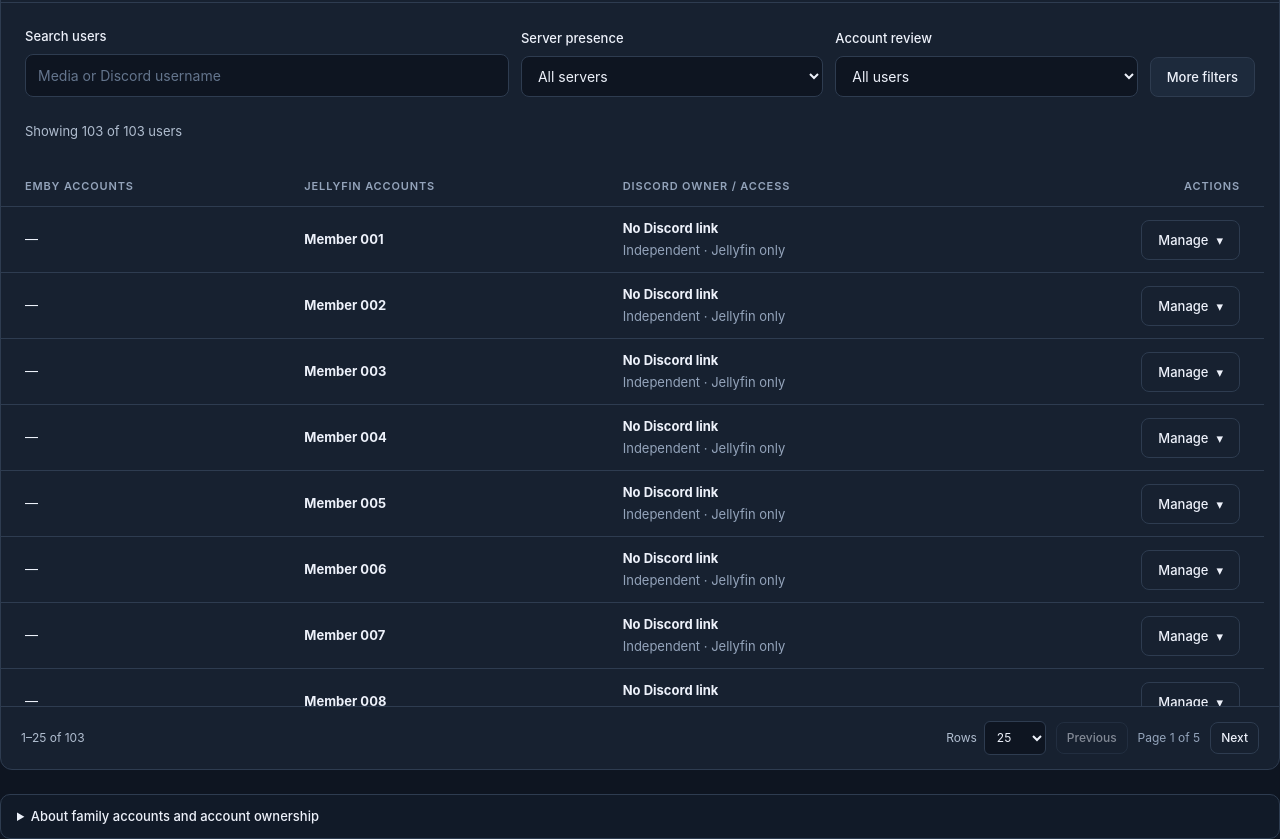
Test case: User directory and Discord organization › bounds large directories to one page and resets pagination when filters or row size change
The width and height of the screenshot is (1280, 839).
(page scrolled)
Check: the text "1–25 of 103" is shown, box [21,729,85,747]
Check: the text "Member 026" is not shown
Click the button with aria-label "Next page" at point(1235, 738), box [1210,722,1259,754]
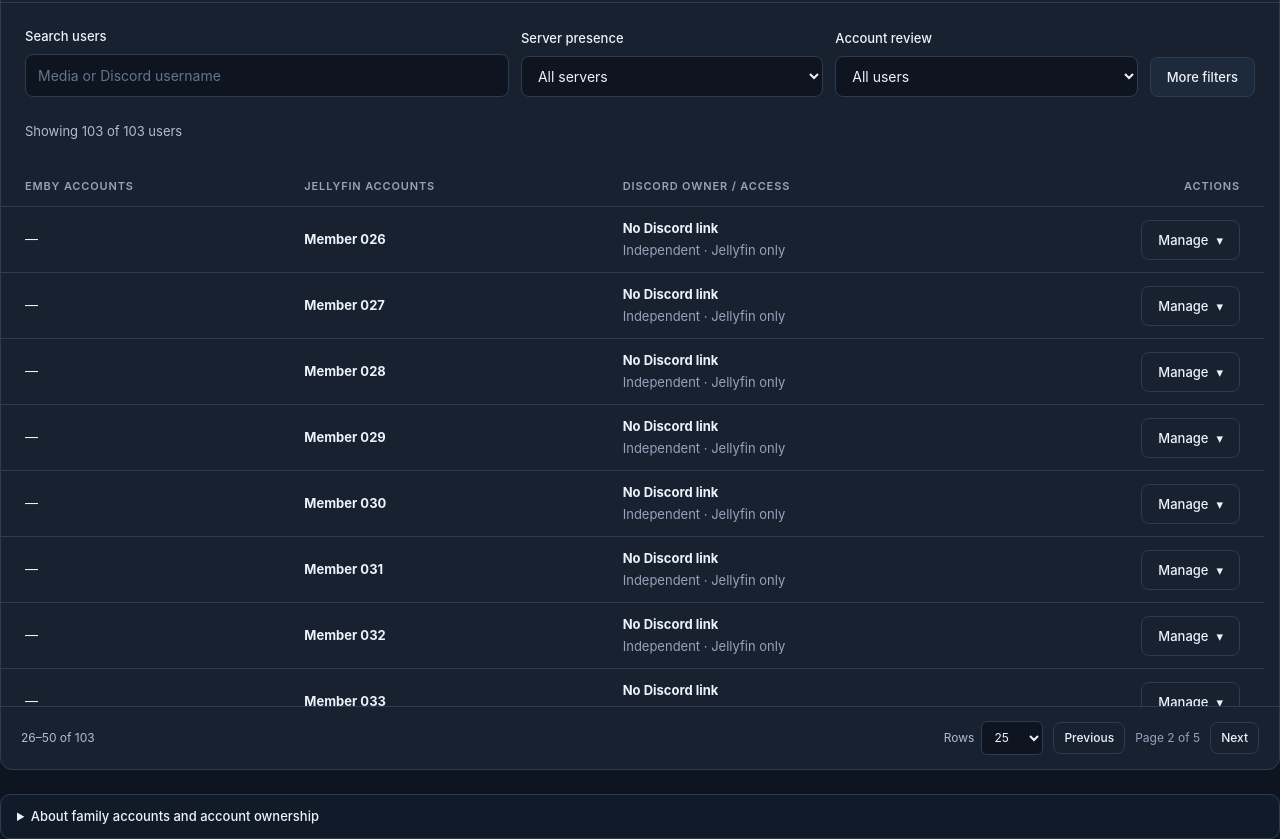
Check: the text "Member 026" is shown, box [304,231,386,247]
Check: the text "Member 001" is gone
Check: the text "26–50 of 103" is shown, box [21,729,95,747]
Type "Member 10" into the search field labelled "Search users" at point(267, 75), box [25,54,509,96]
(page scrolled)
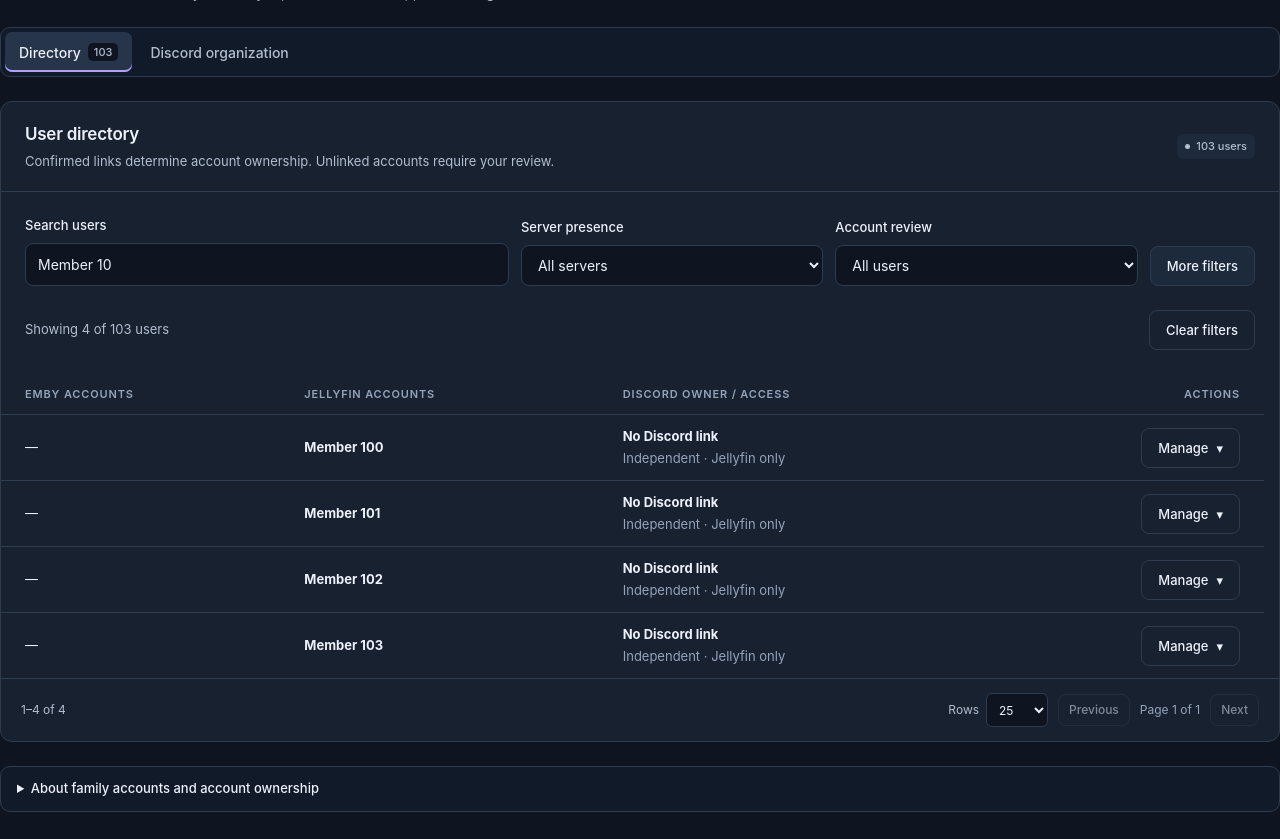
Check: the text "1–4 of 4" is shown, box [21,701,66,719]
Check: the text "Page 1 of 1" is shown, box [1140,701,1200,719]
Check: the number of rows is 5, box [1,374,1264,414]; [1,414,1264,480]; [1,480,1264,546]; [1,546,1264,612]; [1,612,1264,678]
Click the button "Clear filters" at point(1202, 330), box [1149,310,1255,350]
(page scrolled)
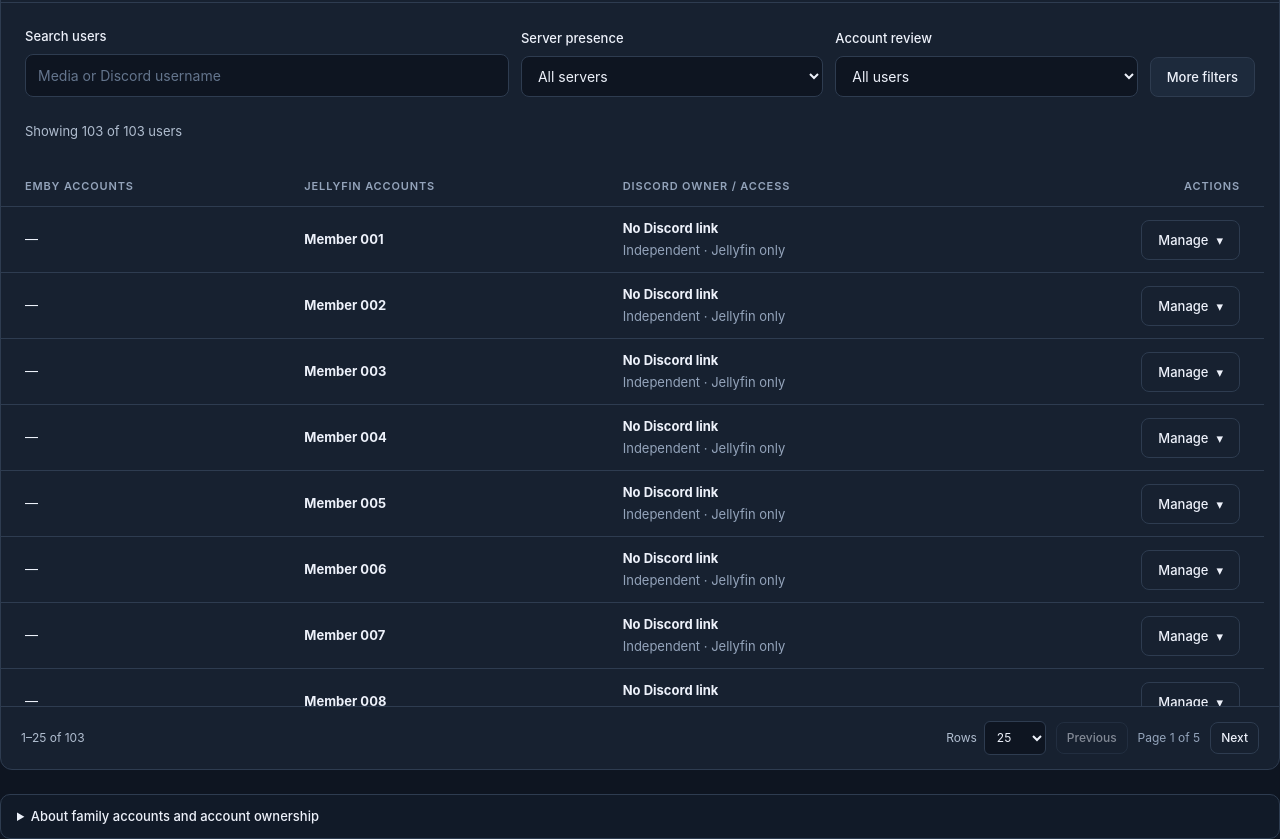
Check: the text "Member 001" is shown, box [304,231,384,247]
Select "10" in the dropdown named "Users per page" at point(1015, 738), box [984,721,1046,755]
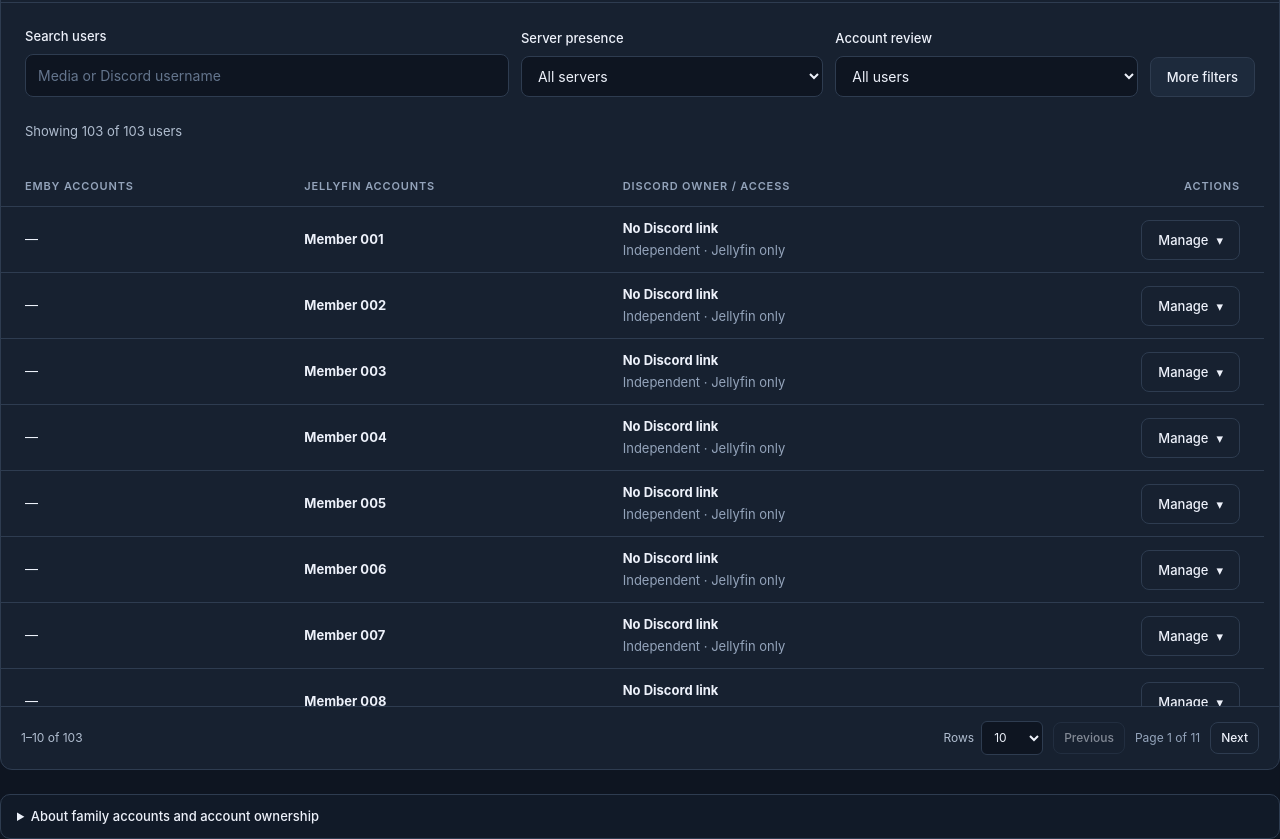
Check: the text "1–10 of 103" is shown, box [21,729,83,747]
